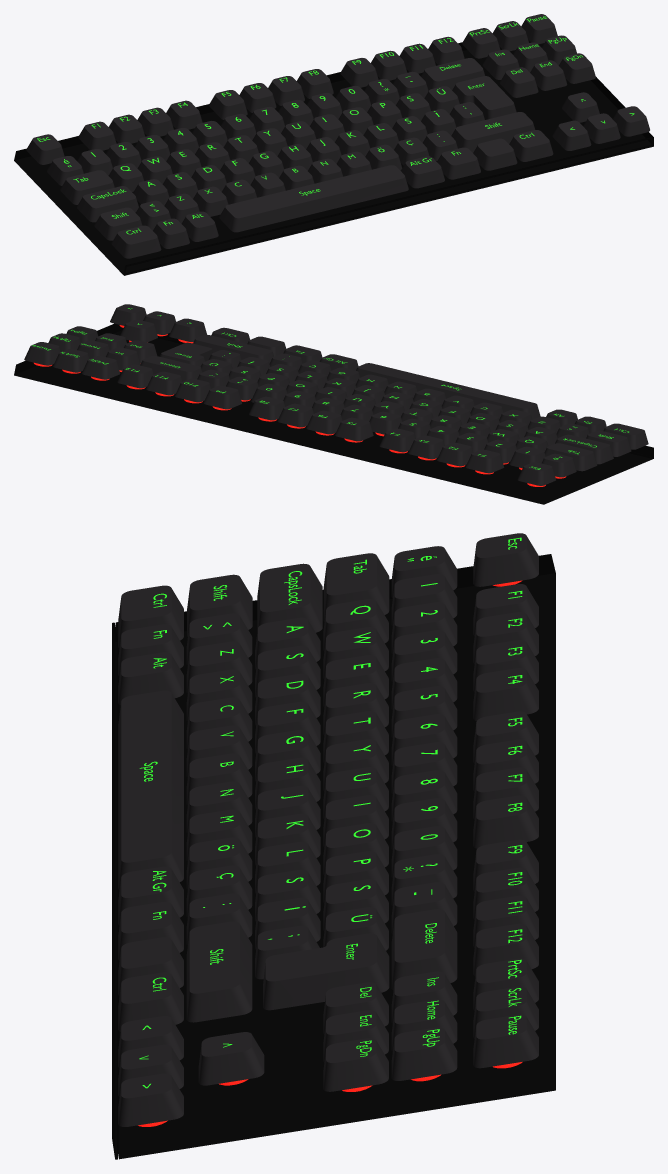
File: keyboard.glb
3 renders of one model, top to bottom at view 1: azimuth 30°, elevation 25°; view 2: azimuth 150°, elevation 25°; view 3: azimuth 270°, elevation 25°, orthographic. The views are drawn at different scales.
Visible parts, largest first — view 1: Text.086_2, Plane_0, Text.002_3; view 2: Text.086_2, Plane_0, Plane.088_1, Text.002_3; view 3: Text.086_2, Plane_0, Text.002_3.
Boxes of the visible parts, bbox=[...] form: Text.086_2: bbox=[26, 14, 649, 258]; Plane_0: bbox=[14, 39, 653, 275]; Text.002_3: bbox=[77, 186, 138, 222]; Text.086_2: bbox=[24, 304, 648, 485]; Plane_0: bbox=[14, 323, 653, 504]; Plane.088_1: bbox=[34, 325, 566, 486]; Text.002_3: bbox=[555, 434, 613, 464]; Text.086_2: bbox=[118, 533, 538, 1126]; Plane_0: bbox=[112, 554, 555, 1159]; Text.002_3: bbox=[257, 563, 322, 632].
Bounding box in the file's own units: 4.65 × 0.5033 × 1.69.
